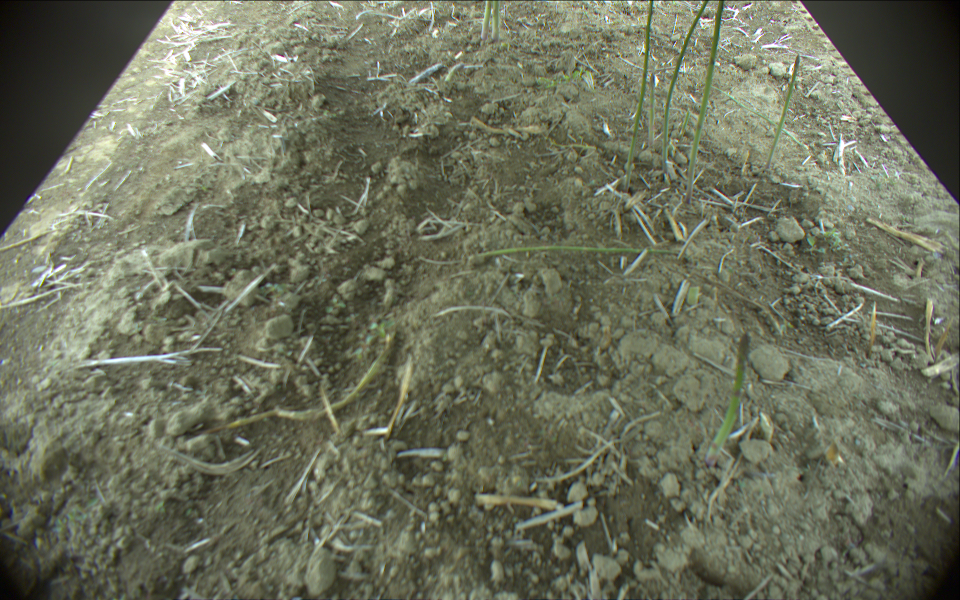aspa: (686, 1, 726, 203), (664, 1, 709, 174), (625, 1, 659, 190), (703, 334, 750, 467), (768, 55, 801, 169), (465, 244, 680, 261), (646, 70, 657, 153), (489, 1, 502, 42), (481, 1, 492, 41)
